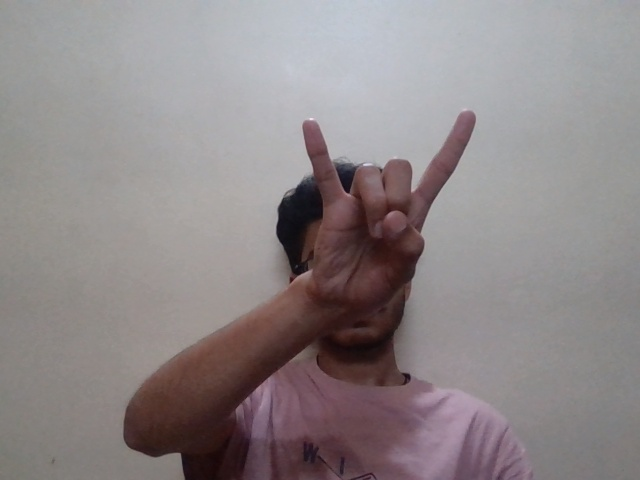i-love-you: (300, 100, 490, 291)
